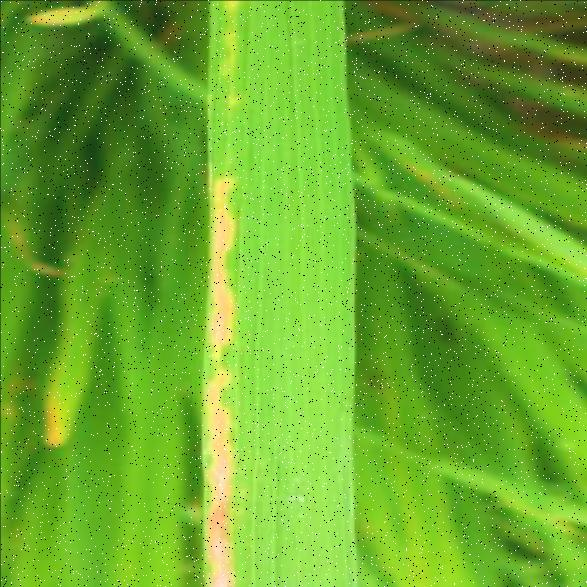Bacteria_Leaf_Blight: (194, 0, 362, 585)
